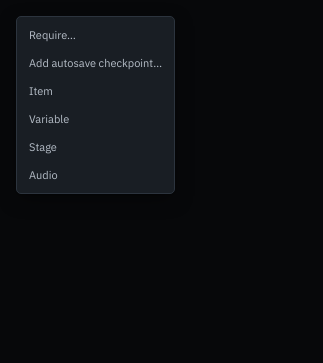
Test case: InkContextMenu › shows what it will write before writing it
Click the menu item "Require…".
click(96, 35)  # box [21,21,170,49]
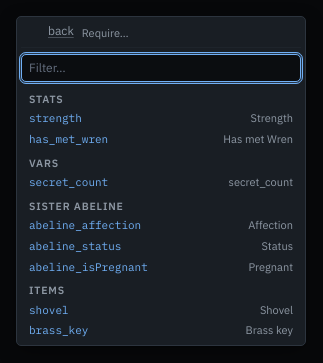
Click the button "shovel Shovel".
click(49, 310)  # box [21,300,301,320]
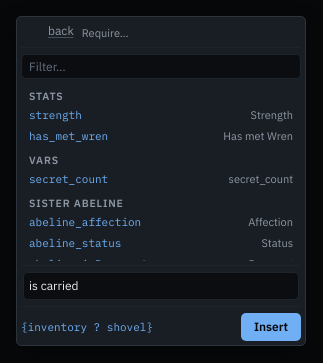
Result: the text "{inventory ? shovel}" is shown at [21,320,153,334]
